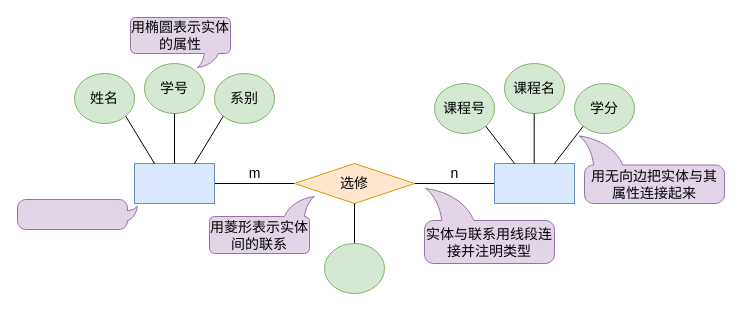
The diagram is 742 pixels wide and 311 high, and some of its shapes have lost their labels. The box of each missing label's shape, as (x1, y1, x2, y2) in pixels:
学生: (134, 162, 214, 204)
成绩: (324, 242, 384, 294)
用矩形表 示实体: (16, 198, 138, 230)
课程: (494, 162, 574, 204)
